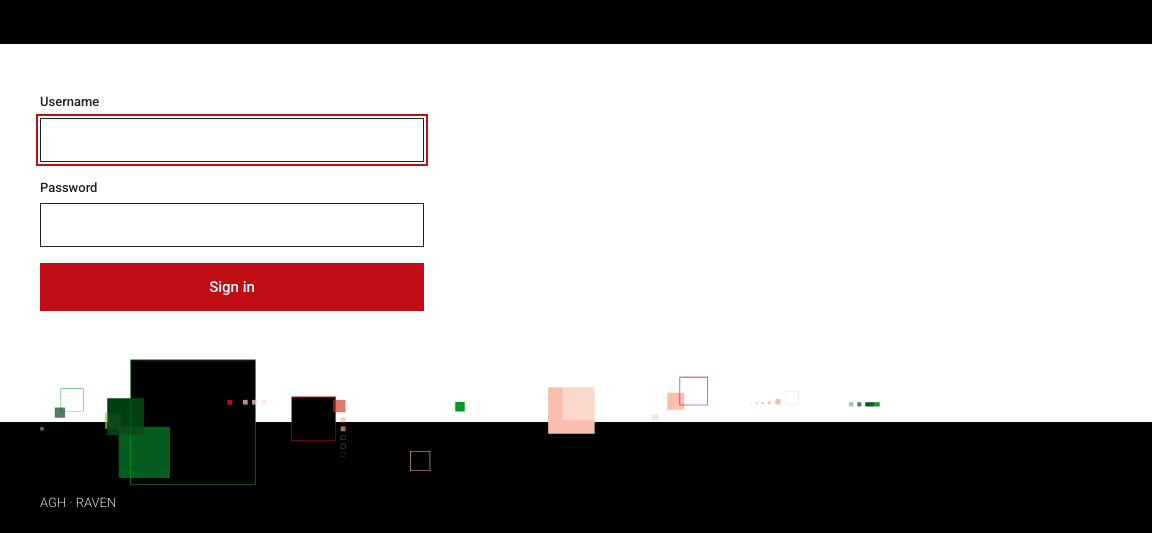
Scenario: LoginPage › posts credentials with the CSRF header and shows errors
This screenshot has width=1152, height=533.
(page scrolled)
Type "admin" into the field labelled "Username" at [232, 140], box [40, 118, 424, 162]
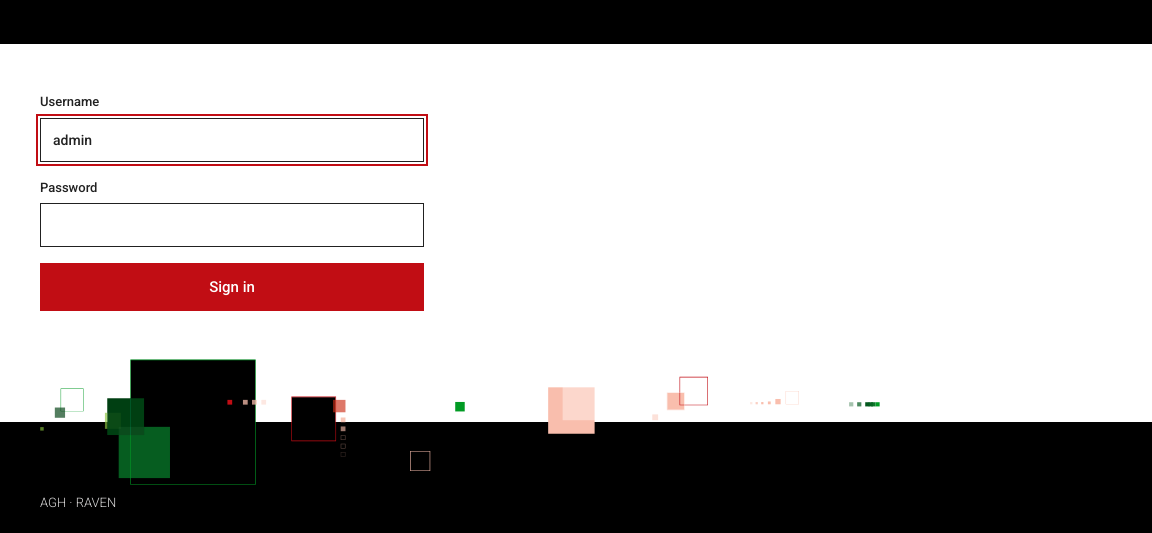
Type "pw" into the password field labelled "Password" at [232, 225], box [40, 203, 424, 247]
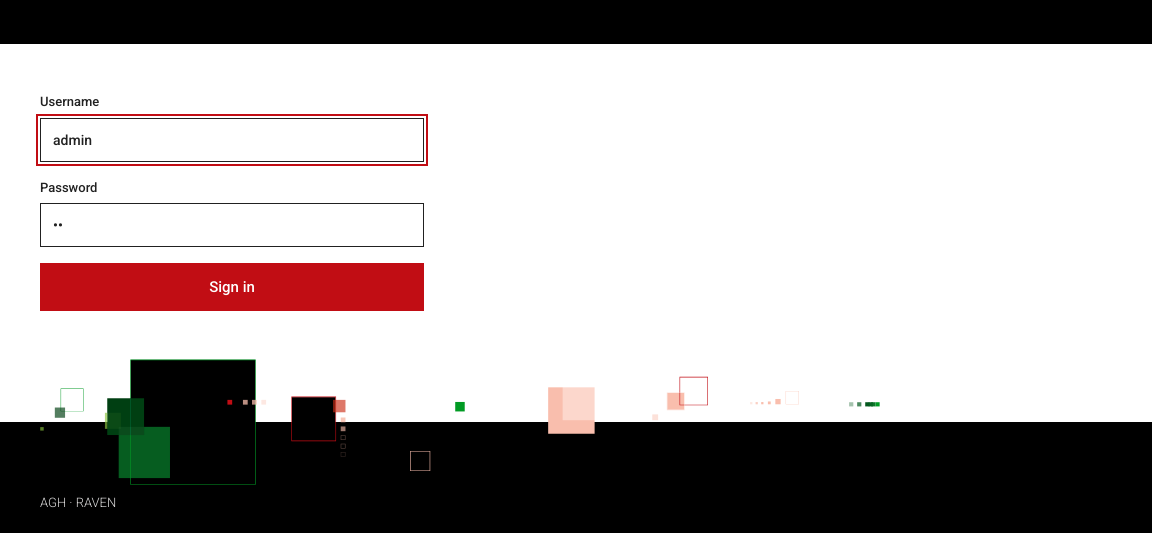
Click the button "Sign in" at [232, 287], box [40, 263, 424, 311]
(page scrolled)
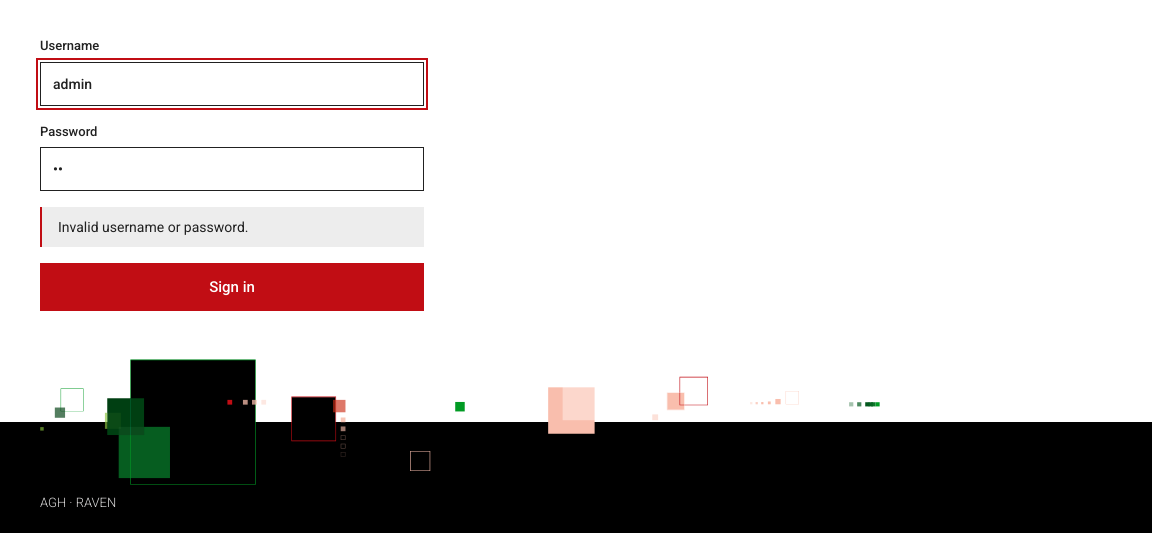
Expected: the message reads "Invalid username or password.", [58, 219, 248, 235]
